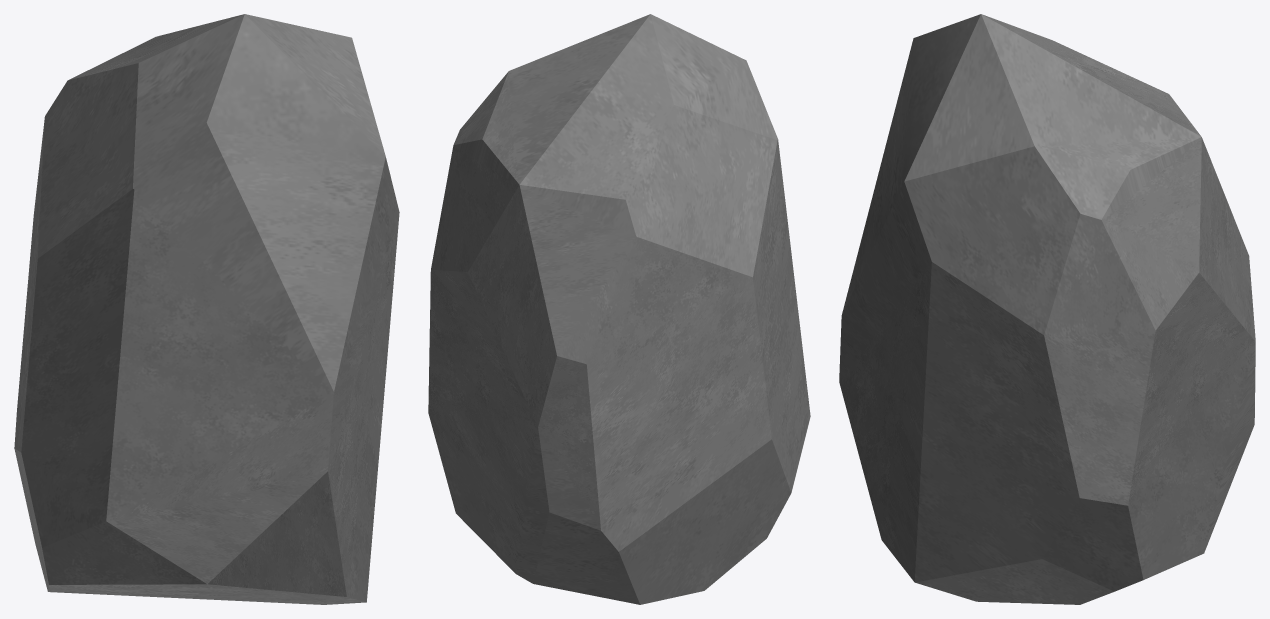
The model's file is Rock_5.glb.
3 views of the same model, side by side, from view 1: azimuth 30°, elevation 25°; view 2: azimuth 150°, elevation 25°; view 3: azimuth 270°, elevation 25° (orthographic). The views are drawn at different scales.
Parts seen in each view (by area): view 1: Rock.011; view 2: Rock.011; view 3: Rock.011.
Part boxes in pixels (x1,y1,x2,y2): Rock.011: [14, 14, 399, 604]; Rock.011: [428, 14, 810, 604]; Rock.011: [839, 14, 1255, 604].
Size of the model in its own units: 1.13 by 1.76 by 1.2.
Materials: 1 (1 with a texture image).
